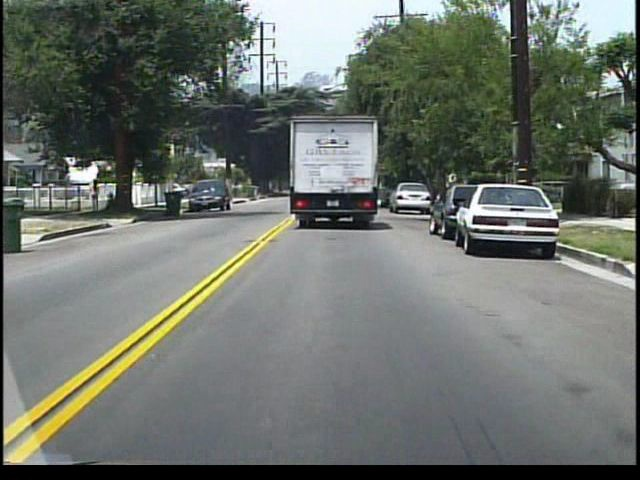person: (92, 179, 104, 213)
